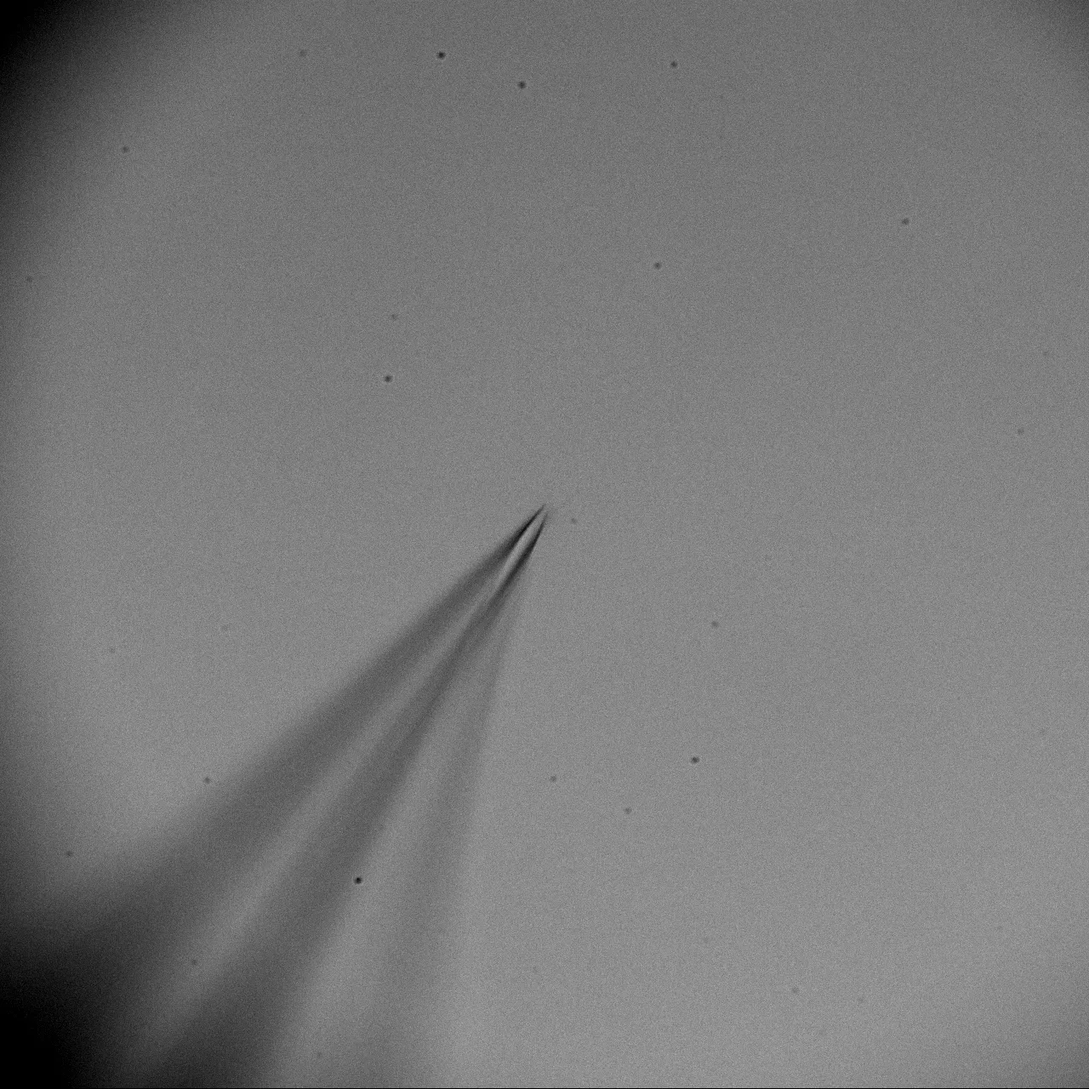tip: (458, 490, 569, 636)
